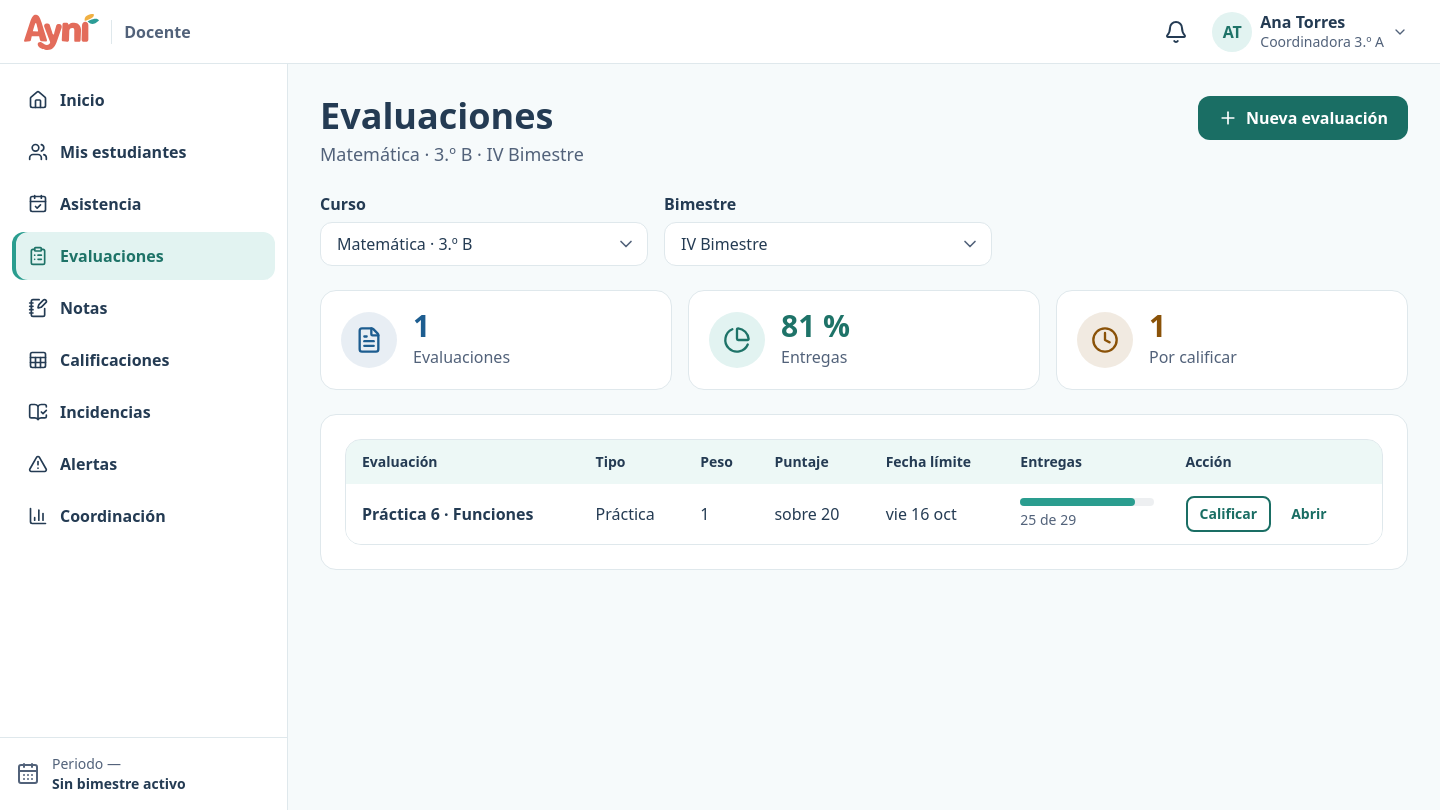
Test: Evaluaciones del docente (RF-38) › al elegir Examen deja de pedir archivo
Click the button "Nueva evaluación": click(1303, 118) [1198,96,1408,140]
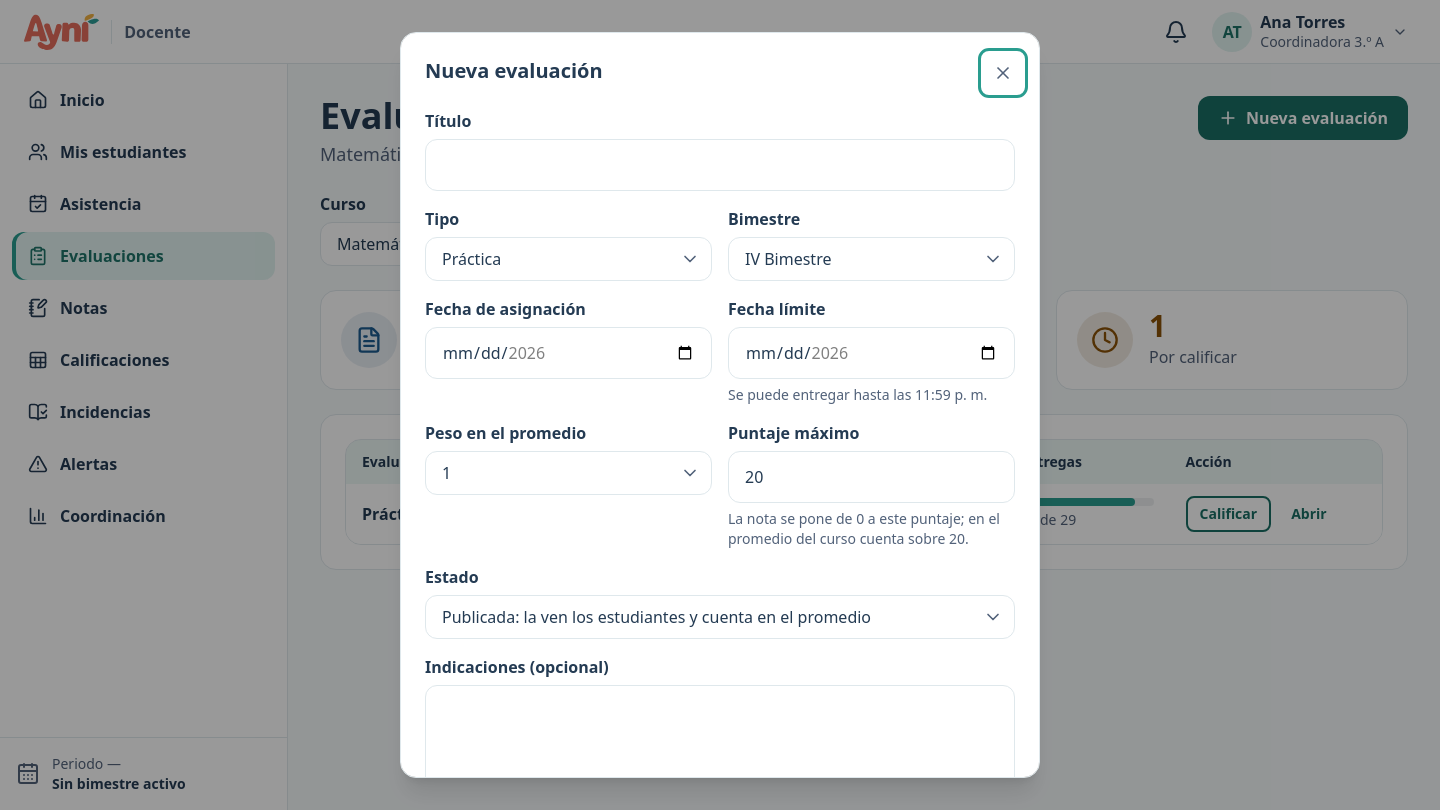
Select "Examen" in the dropdown labelled "Tipo": (568, 259) [425,237,712,281]
(page scrolled)
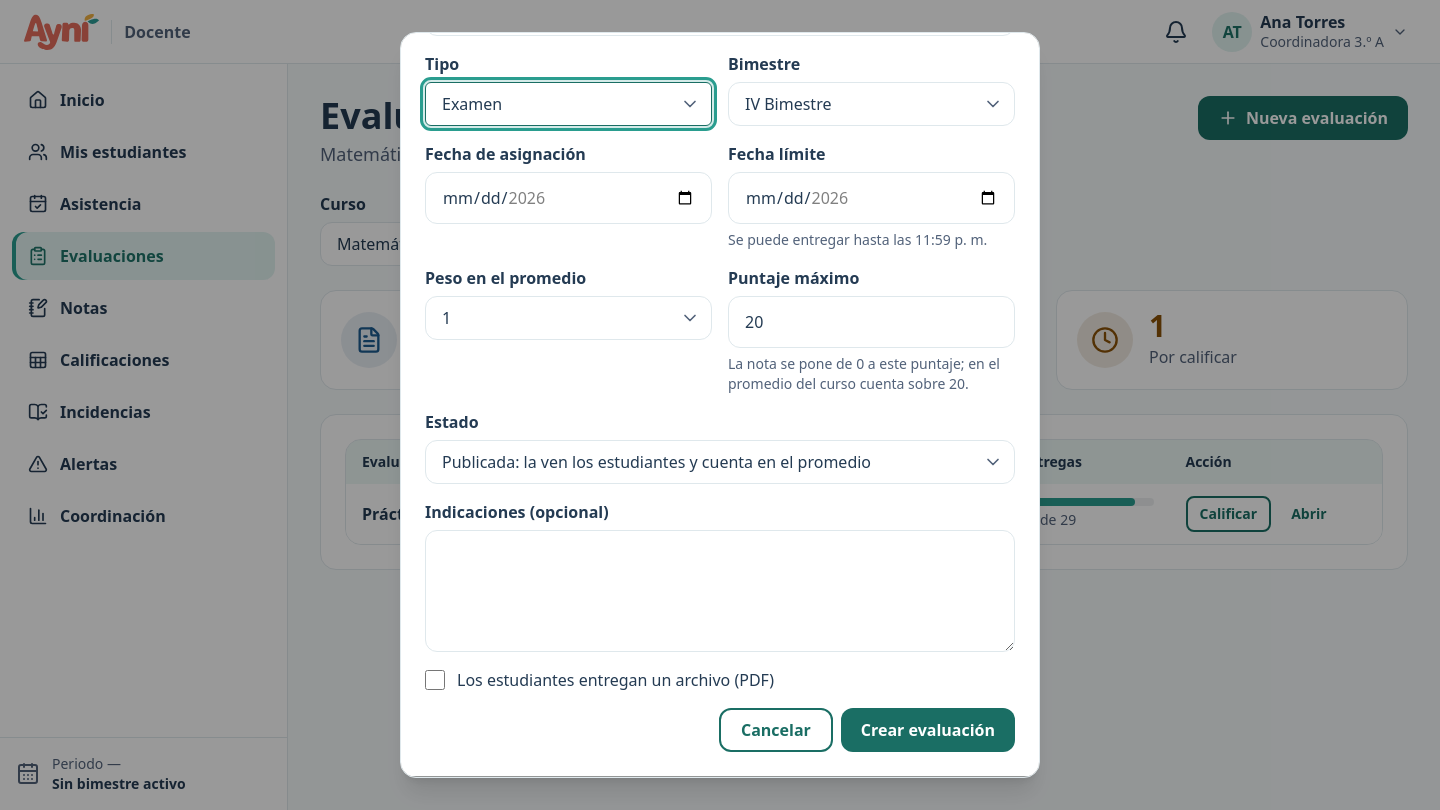
Check: the checkbox labelled "Los estudiantes entregan un archivo (PDF)" is not checked, box [425,670,445,690]
